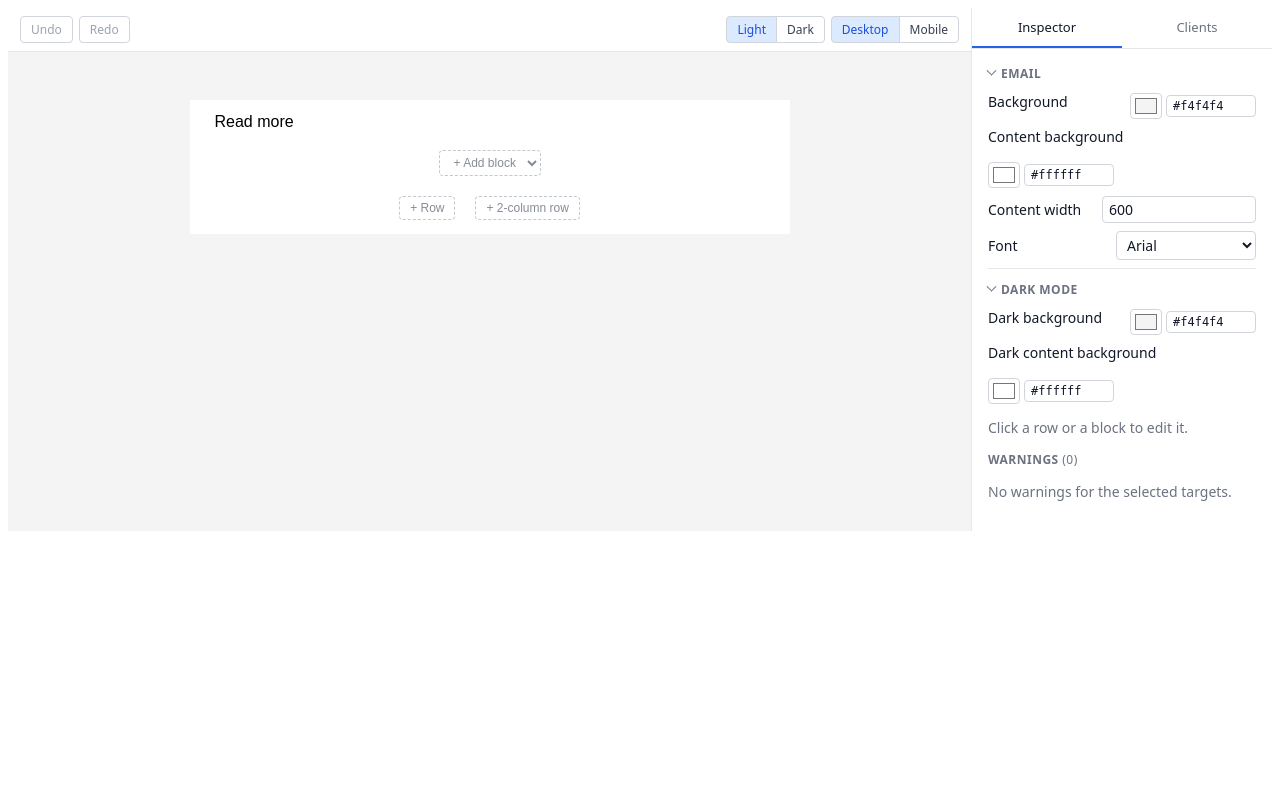
Test: <MailBlocks /> block toolbar › refuses addresses that are not web, email or phone links
Click the text box "Read more": (254, 122) x1=214 y1=113 x2=294 y2=130
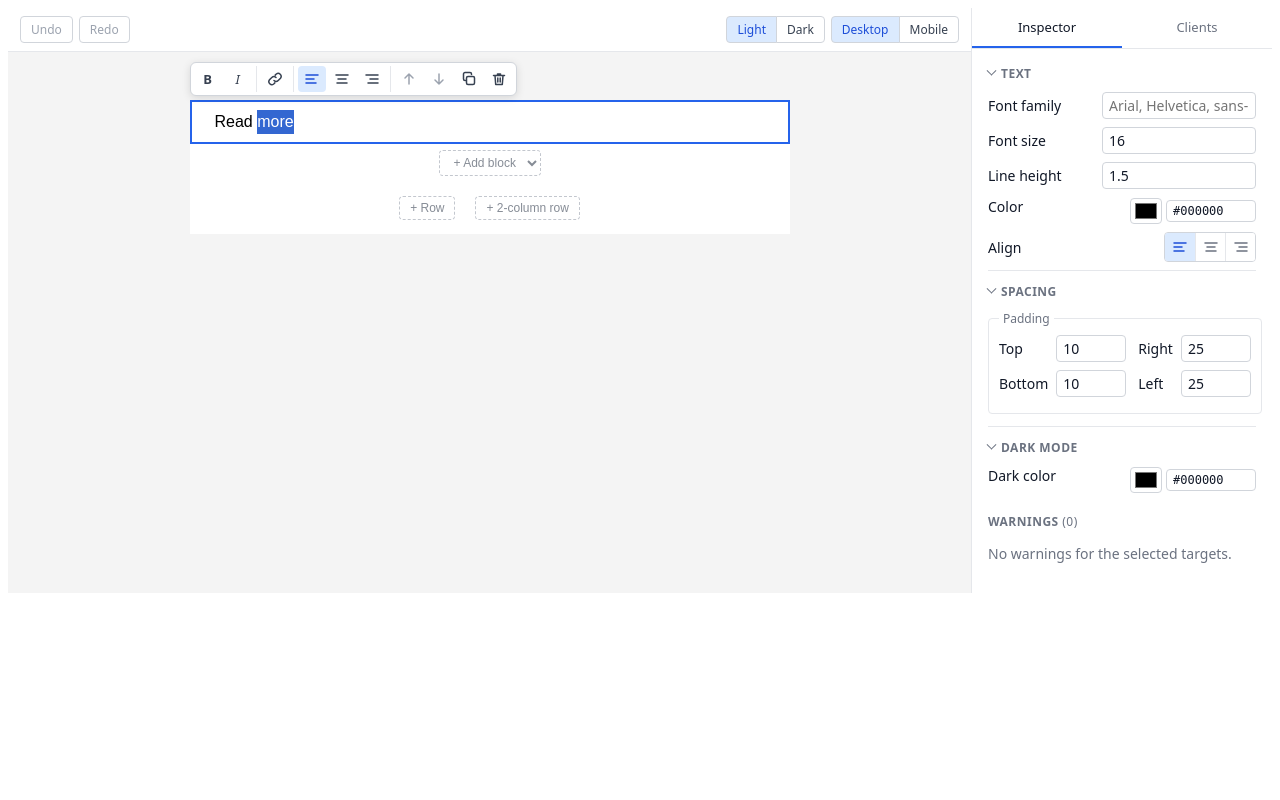
Click the button named "Link": (274, 79) x1=260 y1=66 x2=288 y2=92
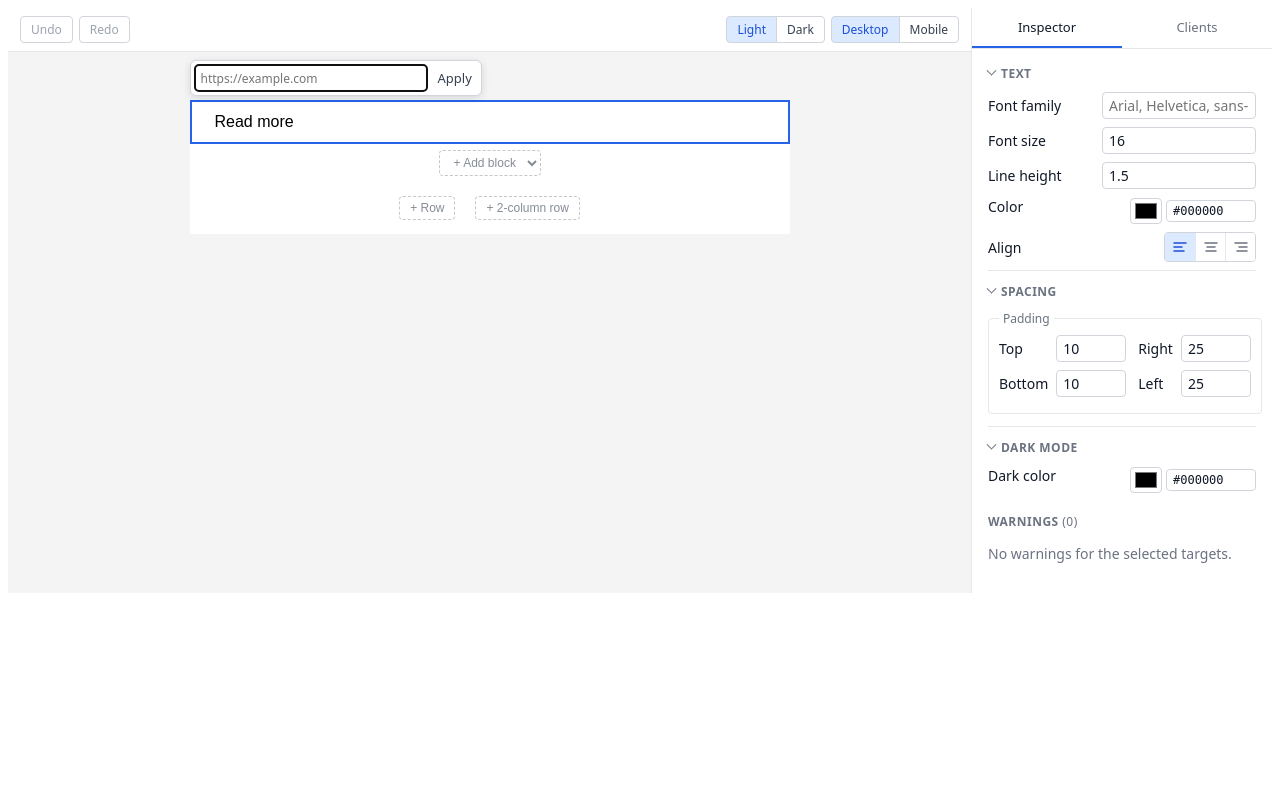
In the field named "Link address": (310, 78) x1=194 y1=64 x2=428 y2=92, type "javascript:alert(1)"
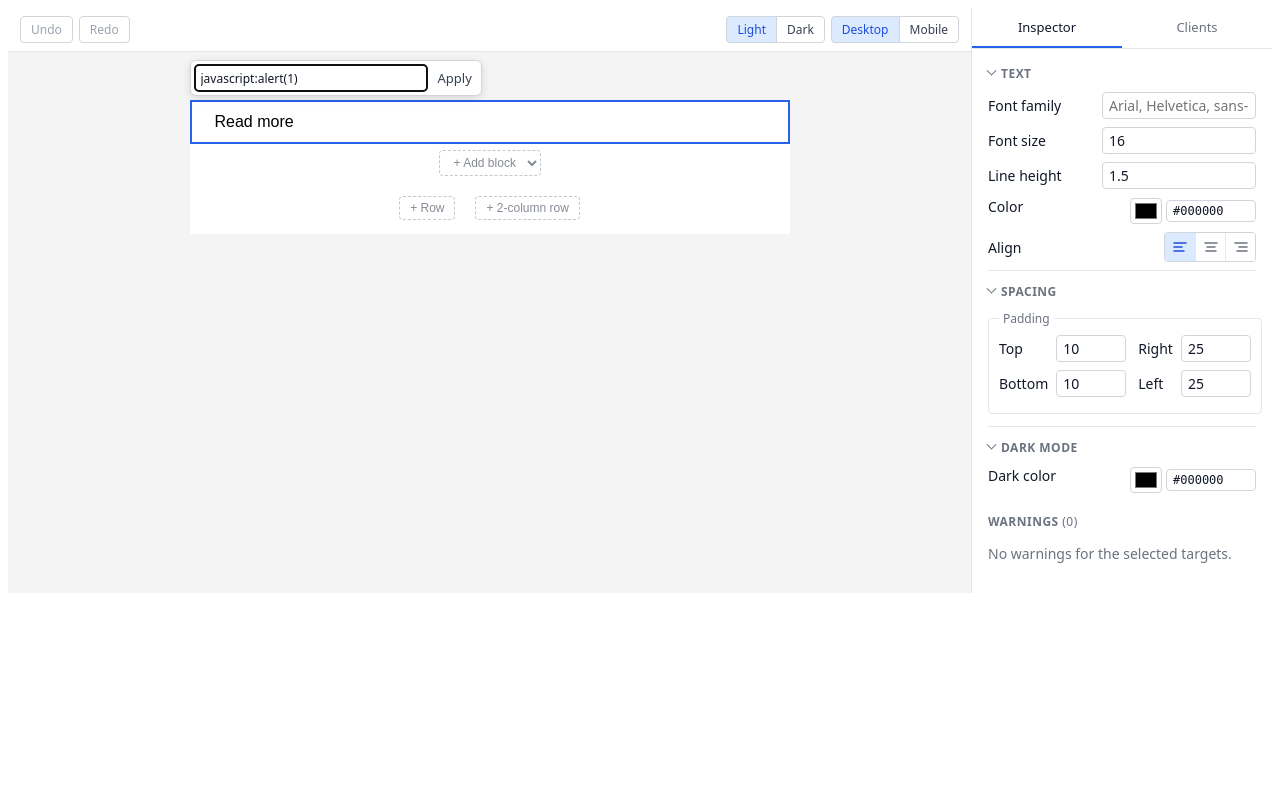
Submit the form named "Link address", box x1=194 y1=64 x2=478 y2=92
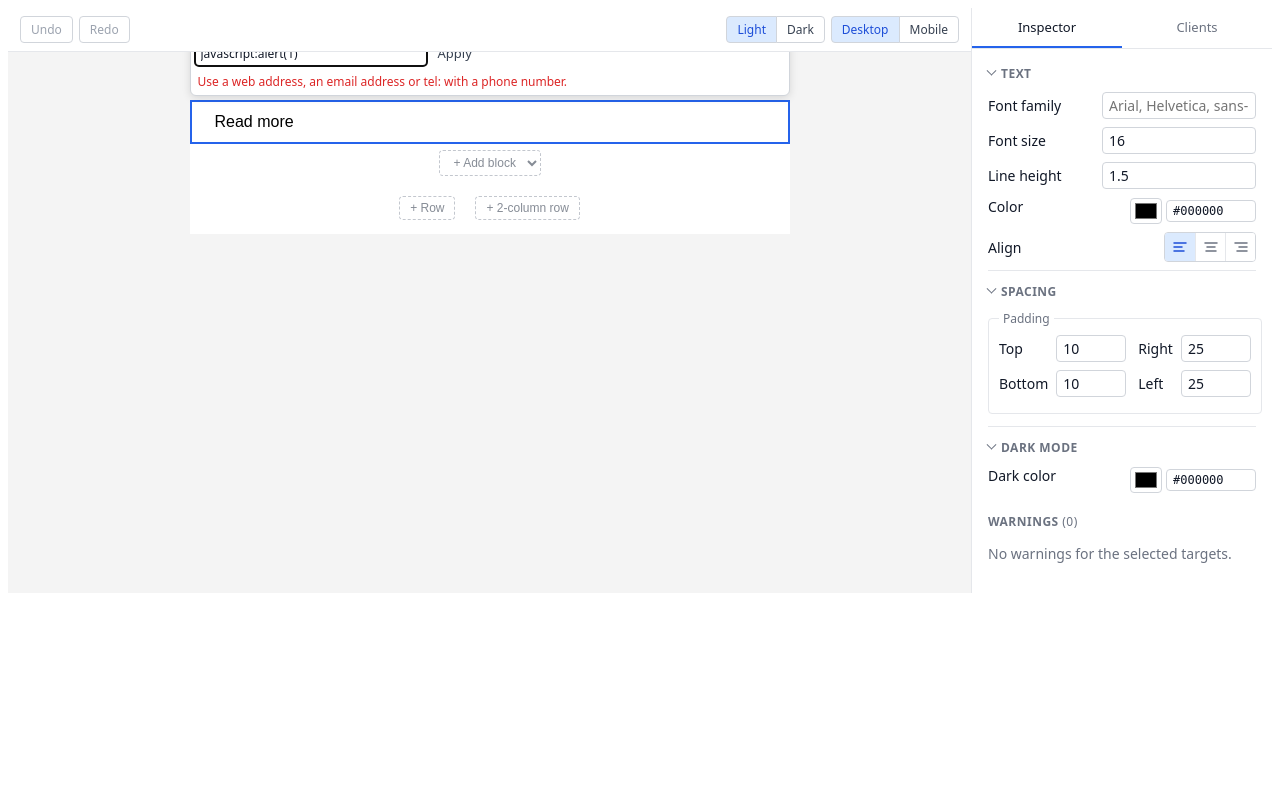
Check: the message shows "web address", box x1=198 y1=73 x2=567 y2=90
